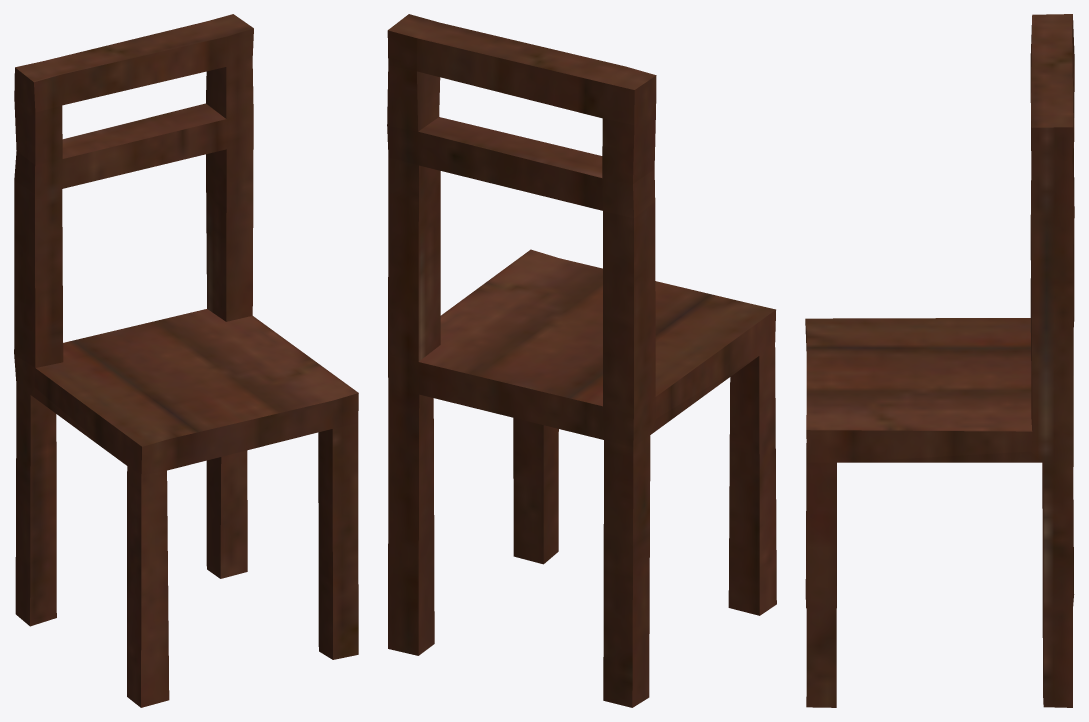
Rendered from chair.fbx.
3 renders of one model, left to right at view 1: azimuth 30°, elevation 25°; view 2: azimuth 150°, elevation 25°; view 3: azimuth 270°, elevation 25°, orthographic. The views are drawn at different scales.
Visible parts, largest first — view 1: Cube; view 2: Cube; view 3: Cube.
Boxes of the visible parts, x1=… form: Cube: x1=14, y1=14, x2=358, y2=707; Cube: x1=387, y1=14, x2=776, y2=707; Cube: x1=805, y1=14, x2=1074, y2=707.
Bounding box in the file's own units: 202 × 481 × 202.
